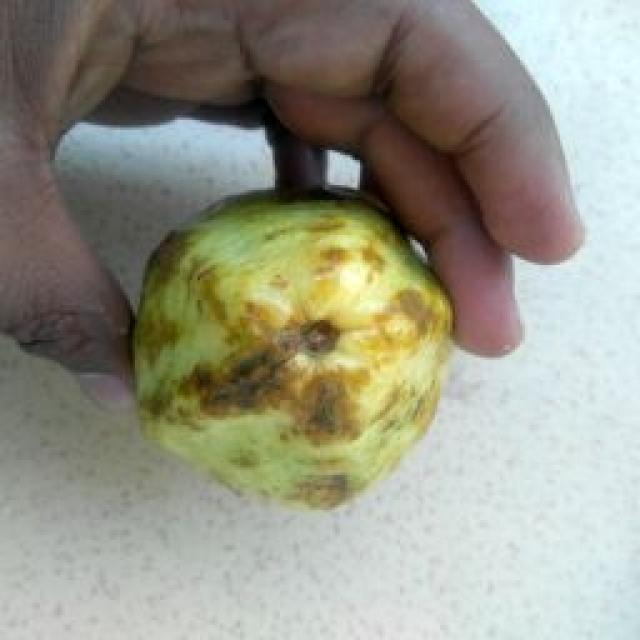Bad_Guava: (134, 198, 451, 507)
